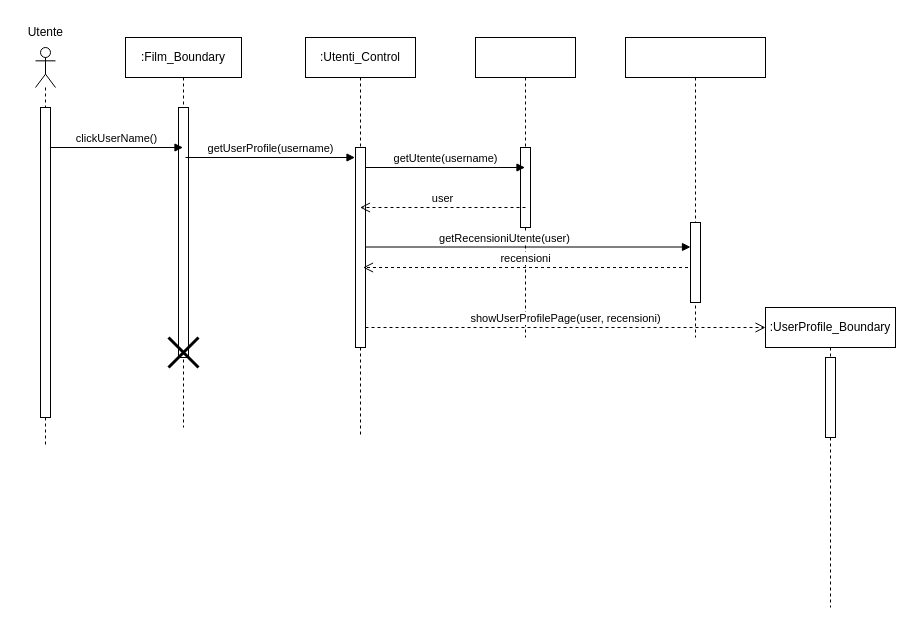
The diagram is 913 pixels wide and 625 high, and some of its shapes have lost their labels. Here are the shapes that lost their labels. From the top down, the centre of each, then its label:
At [525,187]: ":Registro_Utenti".
At [695,187]: ":Catalogo_Recensioni".
